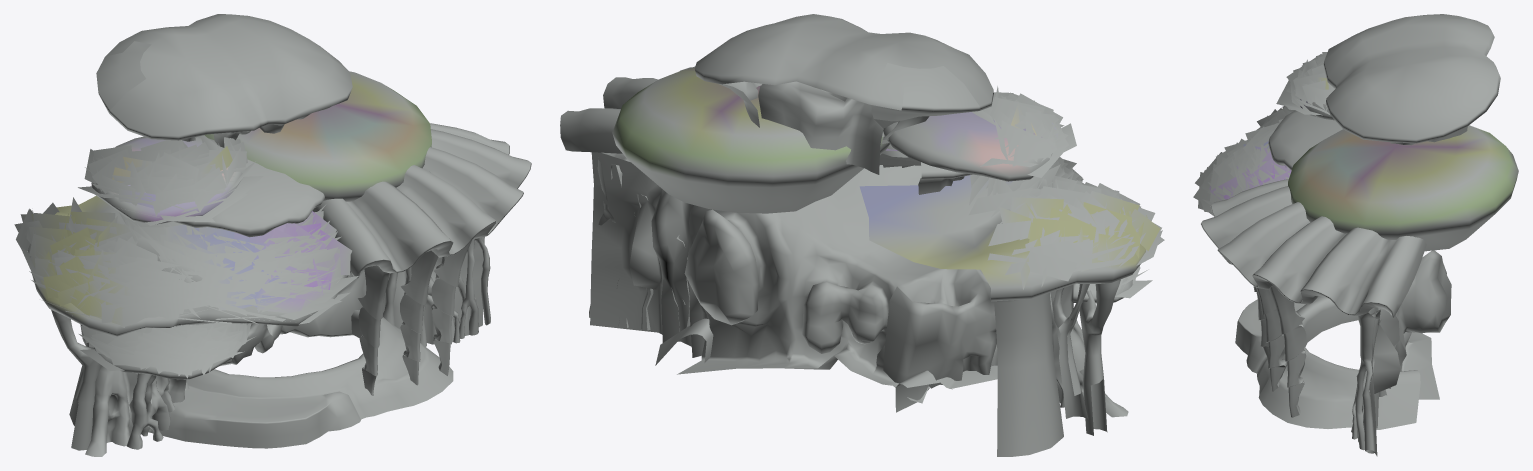
The picture shows the model from 3 angles, left to right: view 1: azimuth 30°, elevation 25°; view 2: azimuth 150°, elevation 25°; view 3: azimuth 270°, elevation 25°; orthographic projection. The views are drawn at different scales.
Parts seen in each view (by area): view 1: G:\FFXIV-MapTools\exports\s1f4\bg\ffxiv\sea_s1\fld\s1f4\bgpa (×11); view 2: G:\FFXIV-MapTools\exports\s1f4\bg\ffxiv\sea_s1\fld\s1f4\bgpa (×9); view 3: G:\FFXIV-MapTools\exports\s1f4\bg\ffxiv\sea_s1\fld\s1f4\bgpa (×9).
Boxes of the visible parts, x1,y1,x2,y2 form: G:\FFXIV-MapTools\exports\s1f4\bg\ffxiv\sea_s1\fld\s1f4\bgpa (×11): (14, 14, 531, 456); G:\FFXIV-MapTools\exports\s1f4\bg\ffxiv\sea_s1\fld\s1f4\bgpa (×9): (560, 14, 1164, 456); G:\FFXIV-MapTools\exports\s1f4\bg\ffxiv\sea_s1\fld\s1f4\bgpa (×9): (1193, 14, 1518, 456).
Size of the model in its own units: 18.87 by 12.32 by 11.62.
